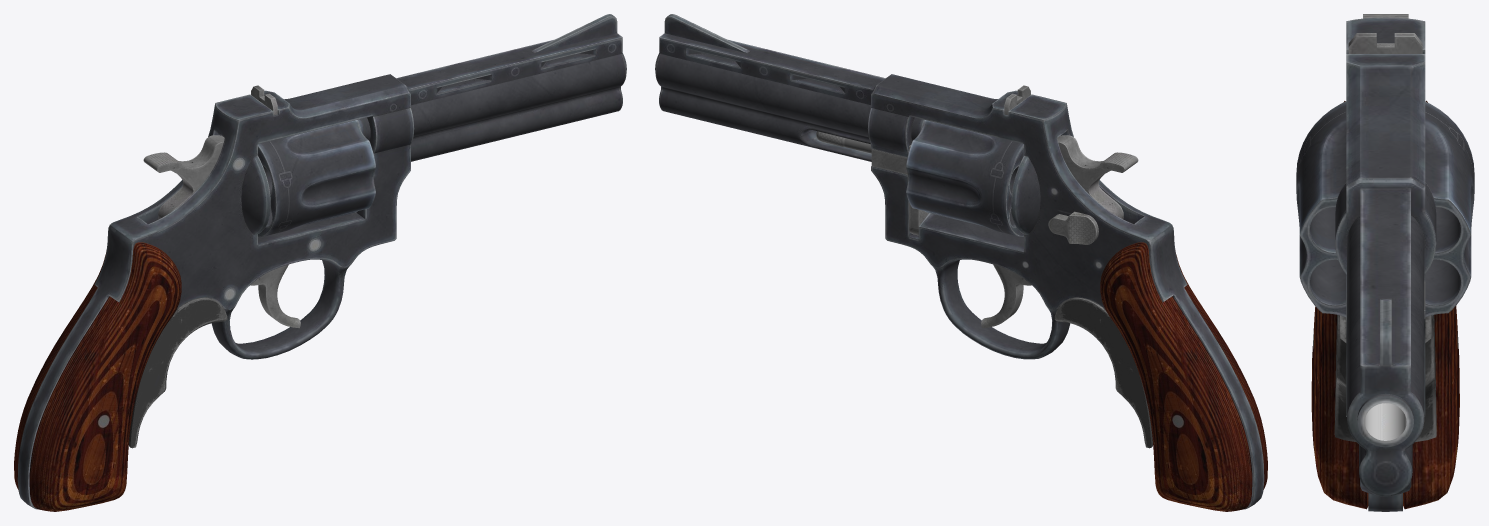
The model's file is revolver.glb.
3 renders of one model, left to right at view 1: azimuth 30°, elevation 25°; view 2: azimuth 150°, elevation 25°; view 3: azimuth 270°, elevation 25°, orthographic. The views are drawn at different scales.
Parts seen in each view (by area): view 1: frame, cylinder, hammer_LP001, trigger_HP002; view 2: frame, cylinder, hammer_LP001, trigger_HP002; view 3: frame, cylinder.
Boxes of the visible parts, x1,y1,x2,y2 form: frame: [14, 14, 626, 511]; cylinder: [258, 120, 375, 237]; hammer_LP001: [143, 135, 224, 218]; trigger_HP002: [250, 264, 300, 328]; frame: [655, 14, 1267, 511]; cylinder: [816, 120, 1023, 236]; hammer_LP001: [1057, 135, 1138, 218]; trigger_HP002: [981, 264, 1031, 328]; frame: [1311, 17, 1459, 511]; cylinder: [1296, 101, 1474, 317].
Bounding box in the file's own units: 9.01 × 5.21 × 1.39.
Materials: 1 (1 with a texture image).
